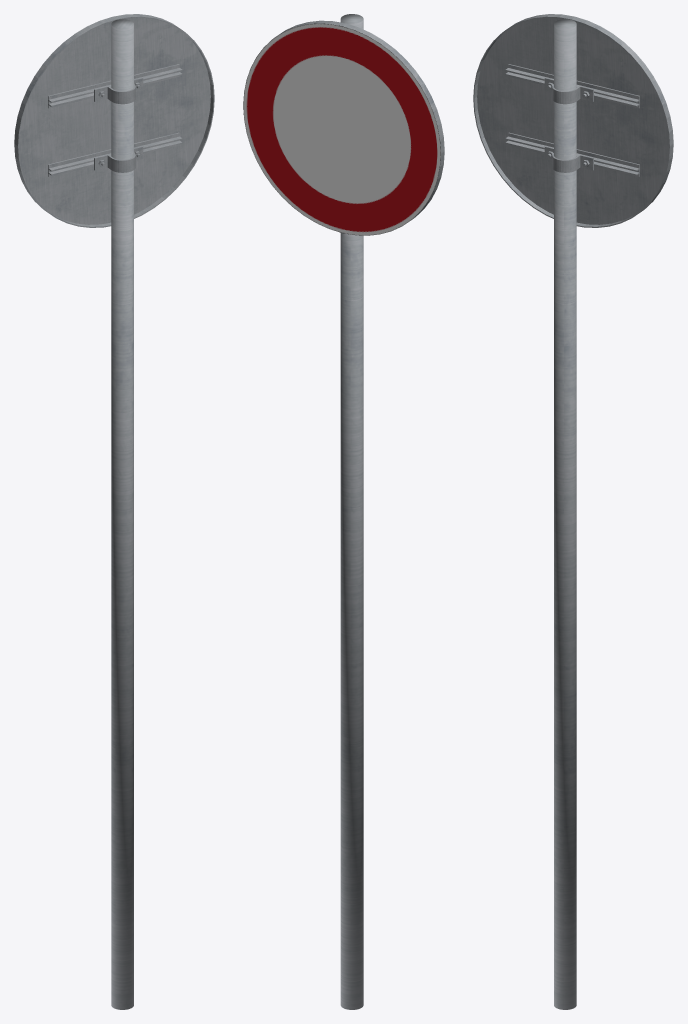
The model's file is Vehicles_prohibited_v2.fbx.
The picture shows the model from 3 angles, left to right: view 1: azimuth 30°, elevation 25°; view 2: azimuth 150°, elevation 25°; view 3: azimuth 330°, elevation 25°; orthographic projection.
Visible parts, largest first — view 1: Vehicles prohibited v2; view 2: Vehicles prohibited v2; view 3: Vehicles prohibited v2.
Part boxes in pixels (bbox=[...]): Vehicles prohibited v2: bbox=[14, 14, 214, 1009]; Vehicles prohibited v2: bbox=[243, 14, 444, 1009]; Vehicles prohibited v2: bbox=[473, 14, 673, 1009].
Bounding box in the file's own units: 0.0876 × 0.6 × 2.86.
